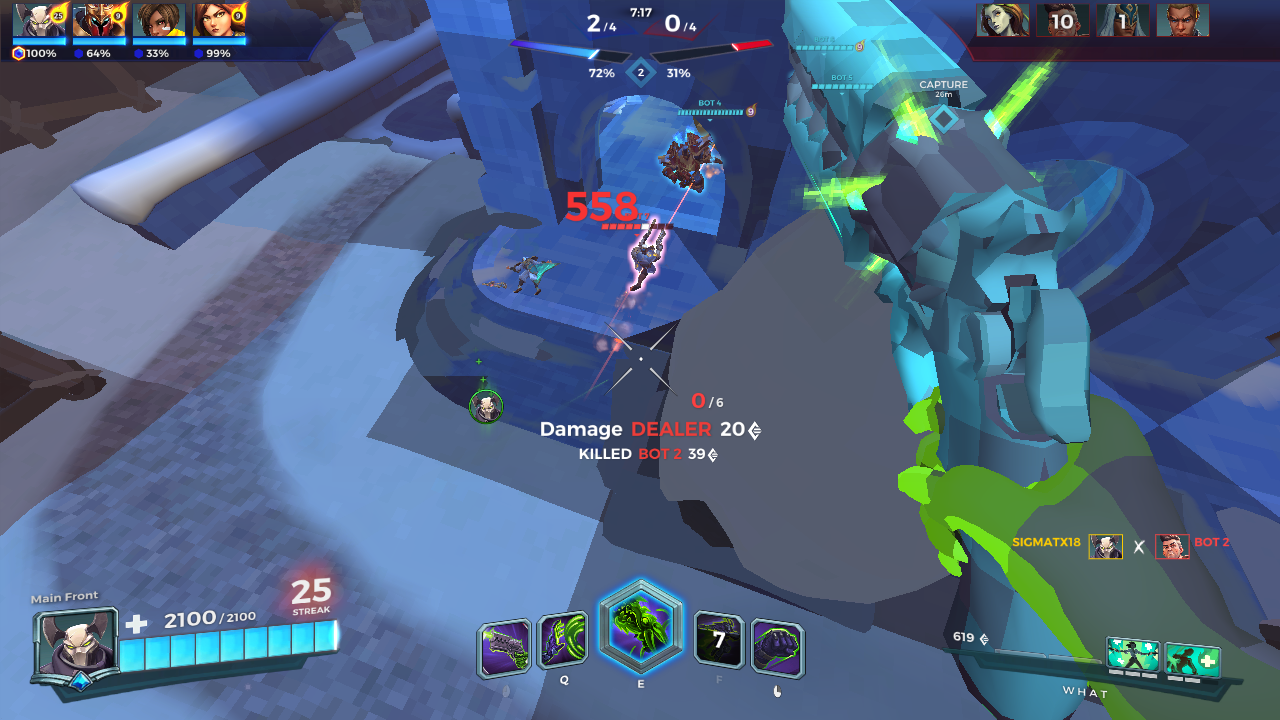model: (627, 236, 664, 293)
